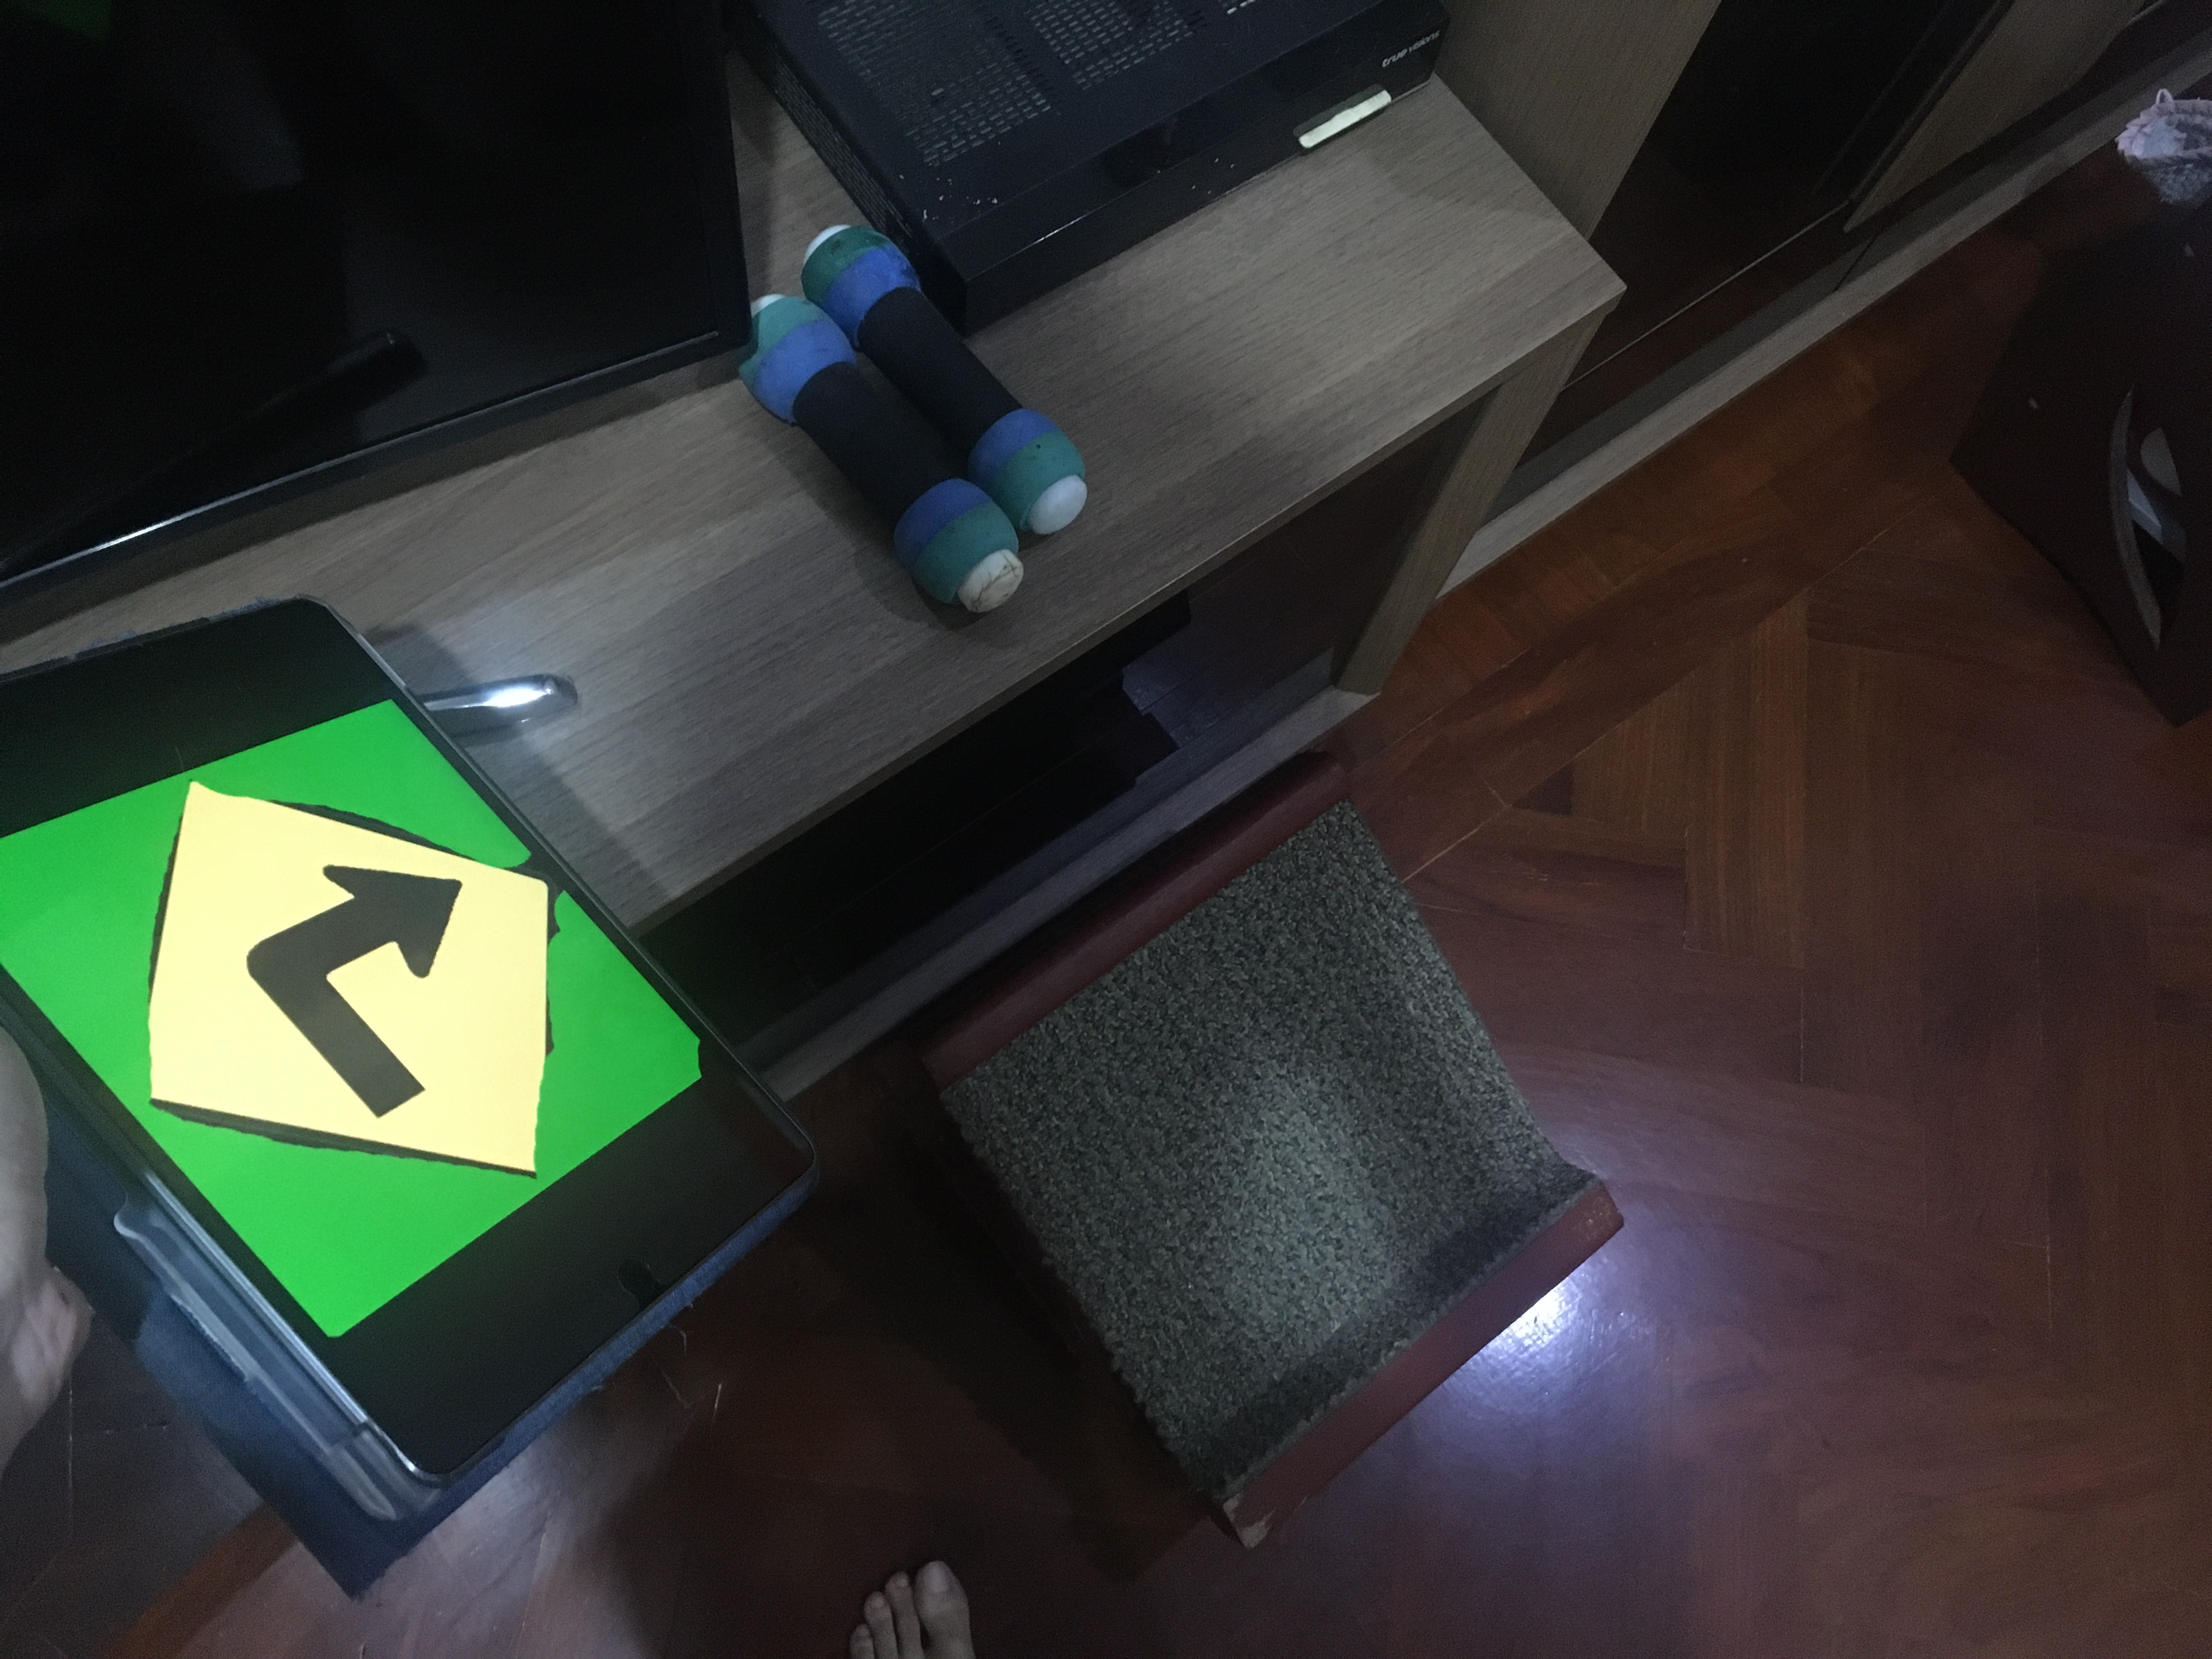right: (129, 773, 594, 1195)
